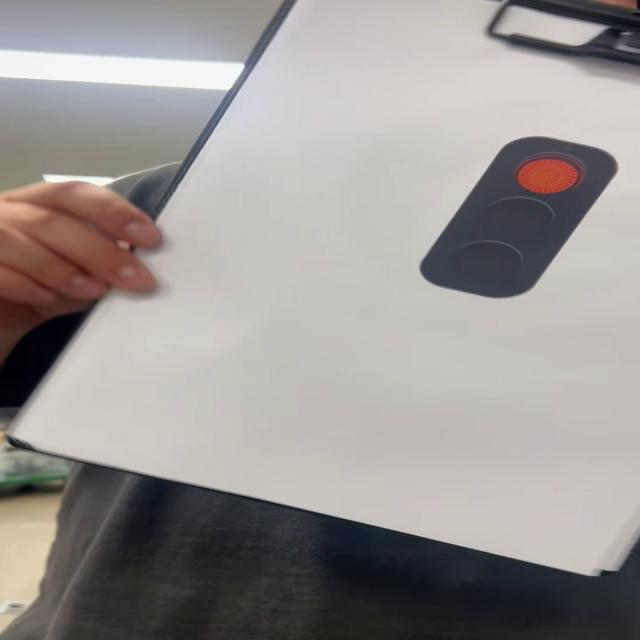red: (423, 138, 623, 300)
